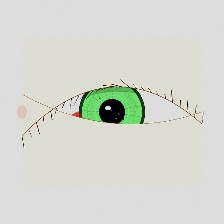hemorrhage_spot: (53, 84, 148, 160)
